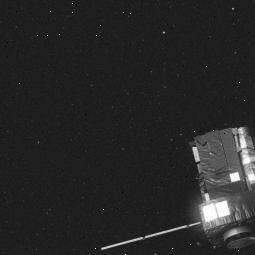soho: (182, 132, 255, 255)
